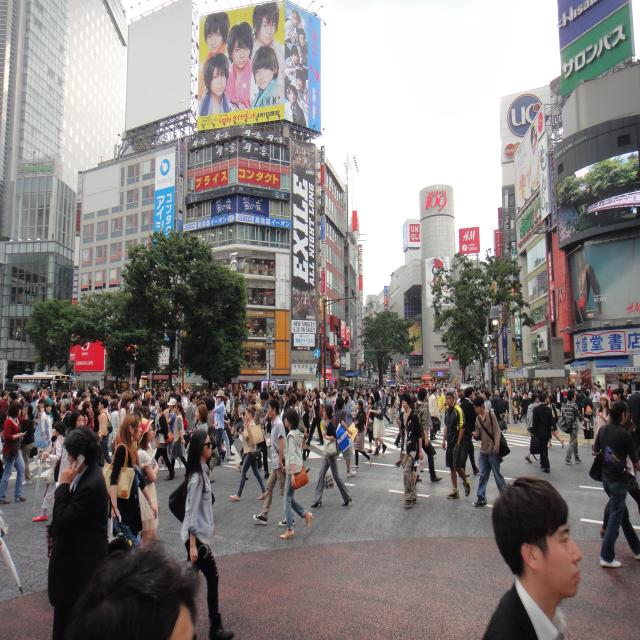body: (0, 368, 640, 401), (199, 3, 319, 171), (478, 474, 585, 640), (167, 428, 237, 640), (45, 423, 112, 640), (64, 537, 201, 640), (587, 398, 640, 569), (100, 412, 158, 550), (252, 398, 298, 528), (279, 407, 315, 540), (472, 395, 512, 508), (589, 453, 640, 540), (310, 403, 352, 508), (237, 256, 275, 368), (9, 279, 70, 344), (229, 403, 269, 502), (31, 420, 67, 522), (394, 392, 424, 508), (442, 390, 472, 499), (187, 403, 216, 508), (136, 418, 159, 550), (413, 387, 443, 483), (239, 390, 271, 479), (0, 399, 27, 504), (53, 409, 86, 492), (556, 389, 591, 466), (572, 245, 604, 323), (529, 392, 559, 474), (459, 386, 479, 478), (335, 396, 357, 478), (153, 401, 175, 481), (159, 398, 182, 471), (166, 402, 188, 478), (520, 122, 544, 191), (350, 399, 373, 469), (32, 400, 53, 470), (18, 403, 35, 486), (369, 388, 388, 456), (205, 397, 220, 483), (303, 388, 325, 446), (212, 389, 228, 467), (47, 398, 73, 445), (114, 392, 133, 450), (96, 397, 112, 465), (220, 396, 236, 462), (29, 398, 46, 458), (525, 393, 539, 464), (220, 395, 235, 461), (547, 394, 565, 449), (593, 393, 611, 444), (228, 388, 244, 443), (366, 396, 381, 454), (291, 288, 315, 323), (300, 399, 312, 461), (490, 390, 508, 430), (283, 392, 298, 437), (109, 398, 120, 456), (428, 388, 440, 440), (580, 390, 594, 433), (628, 381, 640, 430), (626, 412, 640, 454), (0, 388, 10, 444), (431, 260, 448, 292), (185, 392, 197, 437), (519, 391, 531, 434), (436, 387, 446, 436), (611, 388, 629, 414), (380, 388, 391, 425), (82, 401, 95, 432), (0, 504, 9, 548), (128, 189, 155, 203), (589, 387, 601, 418), (389, 389, 399, 424), (554, 386, 564, 418), (512, 390, 520, 426), (575, 388, 585, 413), (128, 392, 140, 412), (326, 392, 336, 416), (364, 392, 371, 426), (0, 426, 4, 484), (240, 393, 248, 418), (409, 332, 421, 345), (343, 387, 351, 406), (398, 388, 403, 416), (412, 390, 418, 411), (359, 393, 365, 411), (546, 387, 554, 397)
